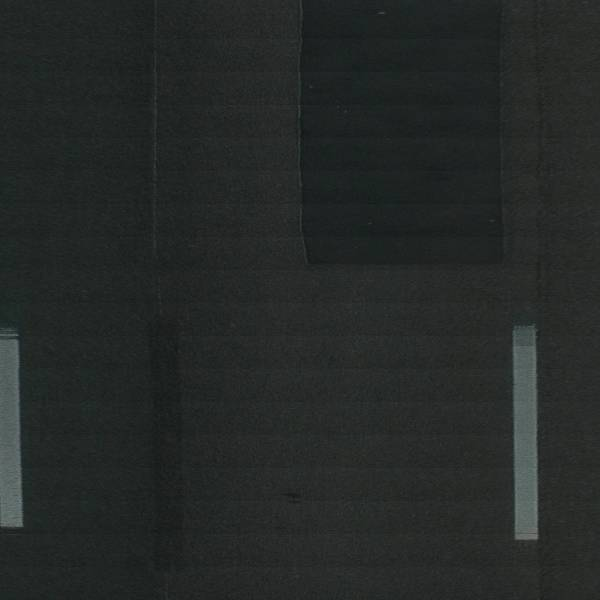road_damage: (290, 1, 509, 272)
